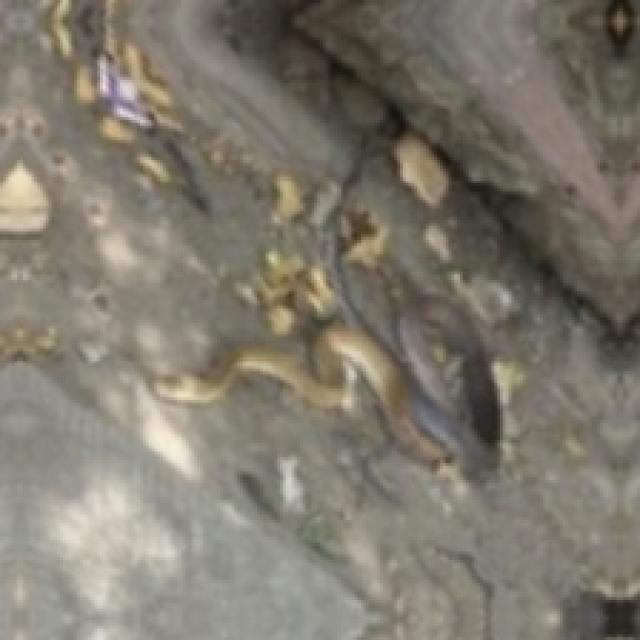reddish rat snake: (152, 295, 499, 473)
